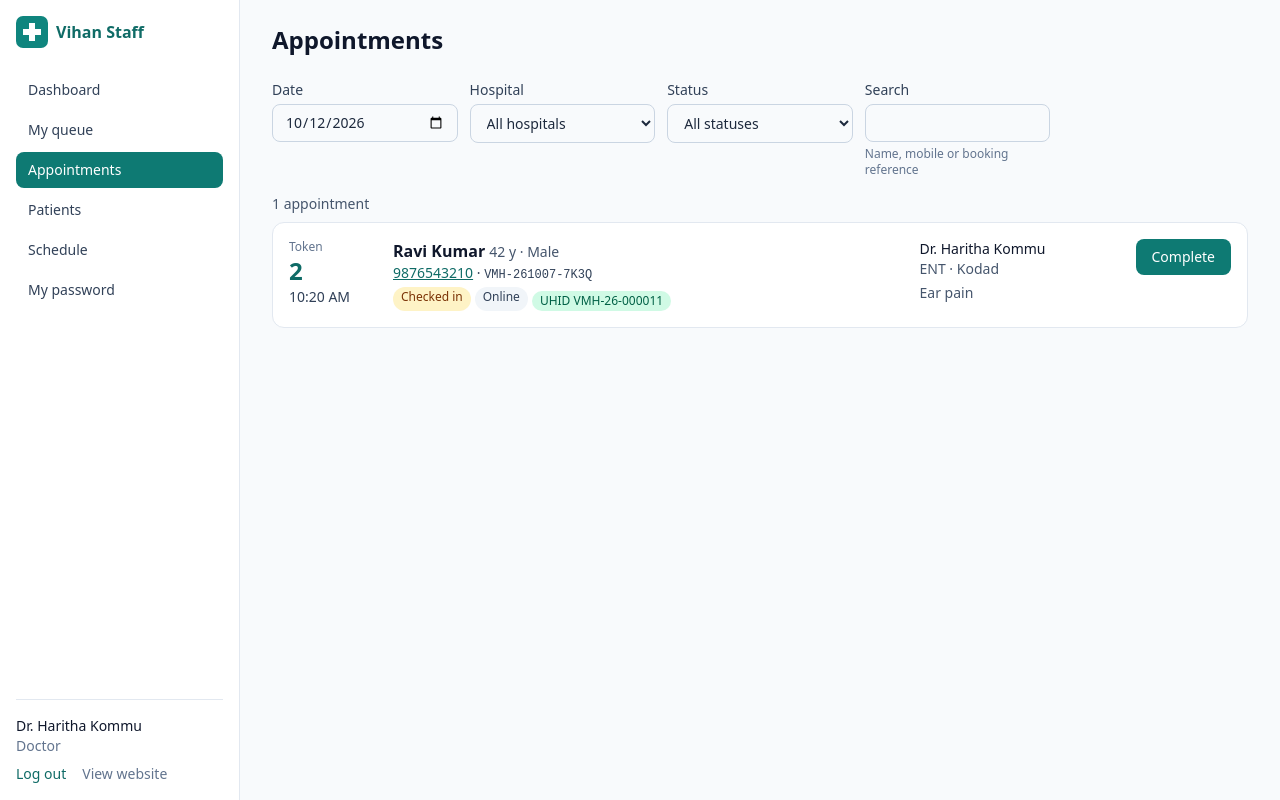
Test case: Appointments (doctor) › shows only the doctor’s own list and lets them complete a visit
Expected: the text "UHID VMH-26-000011" is shown, [532,291,671,311]
Click the button "Complete" at (1183, 257), box [1136,239,1231,275]
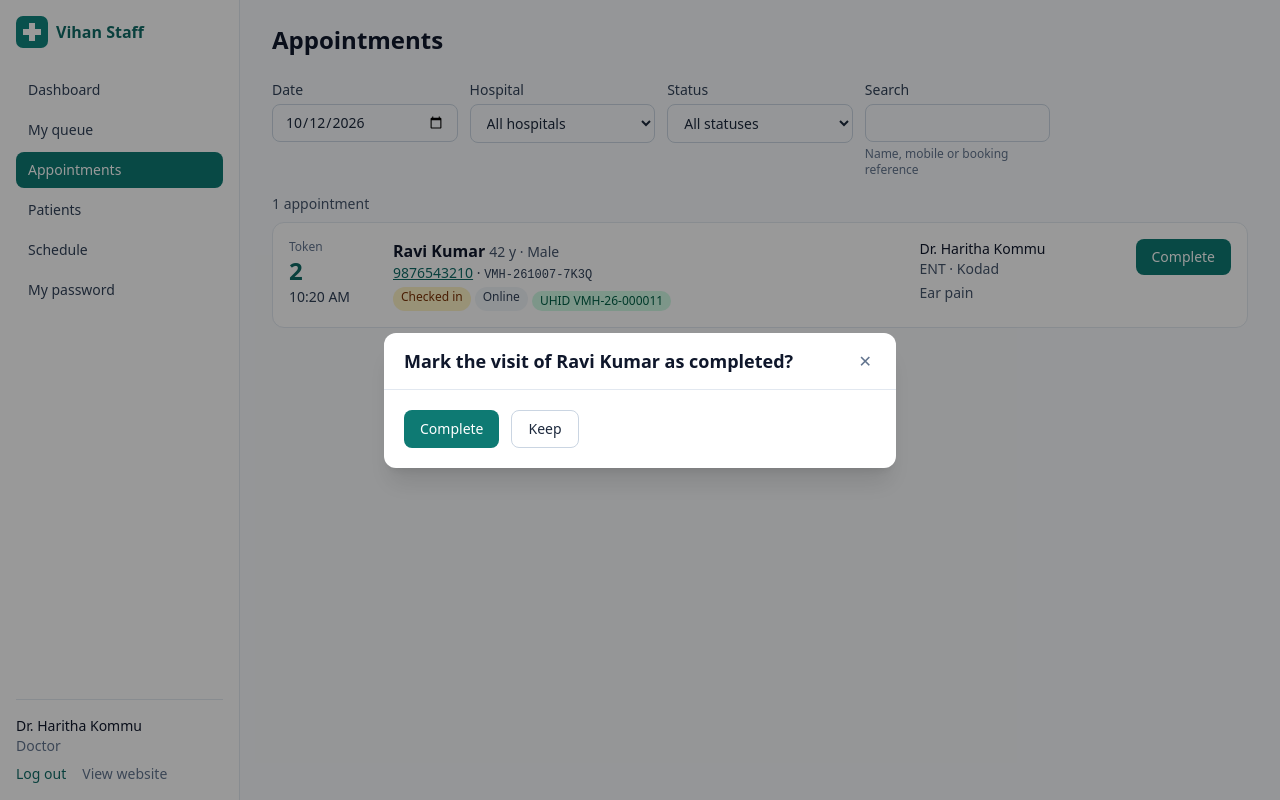
Click the button "Complete" at (452, 428), box [404,410,500,448]
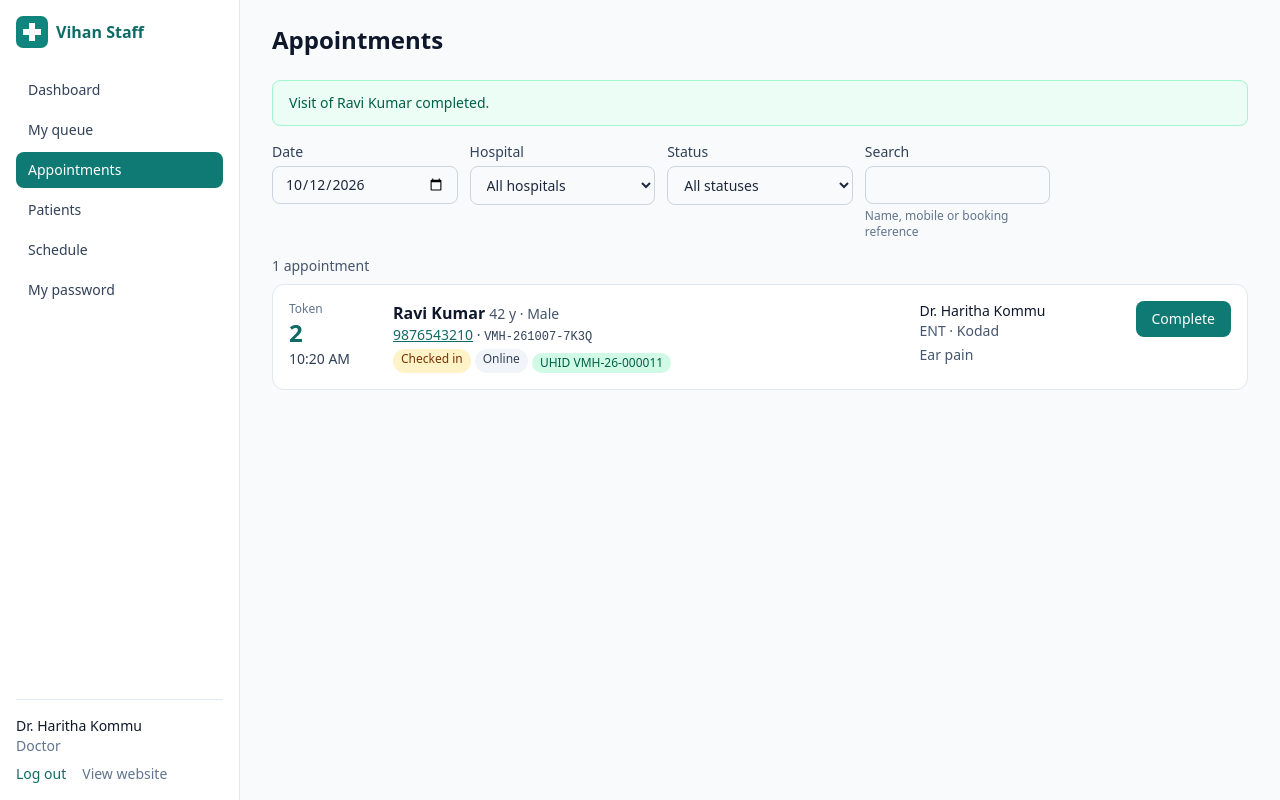
Expected: the text "Visit of Ravi Kumar completed." is shown, [272,80,1248,126]
